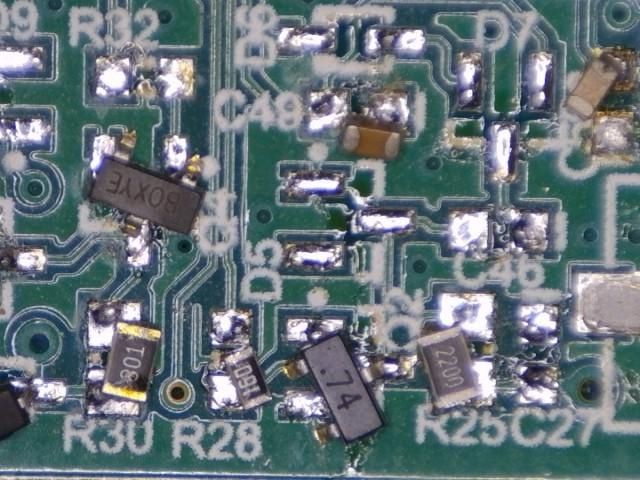pcb_defect: (283, 318, 416, 448), (88, 131, 206, 266), (416, 292, 497, 411), (84, 299, 162, 417), (564, 52, 637, 164), (307, 89, 410, 161), (207, 309, 274, 411), (0, 376, 66, 443)
